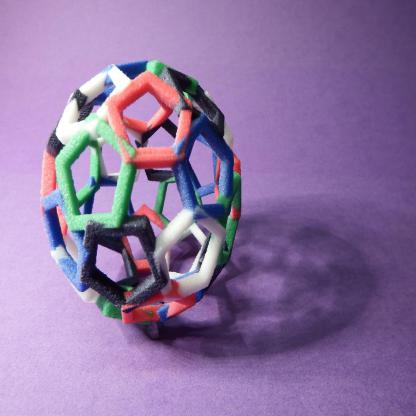Ball: (38, 58, 241, 324)
